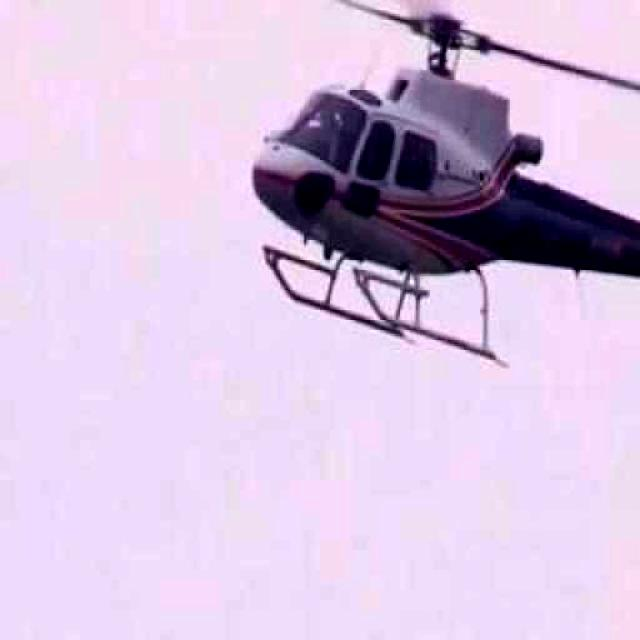drone: (128, 0, 640, 412)
